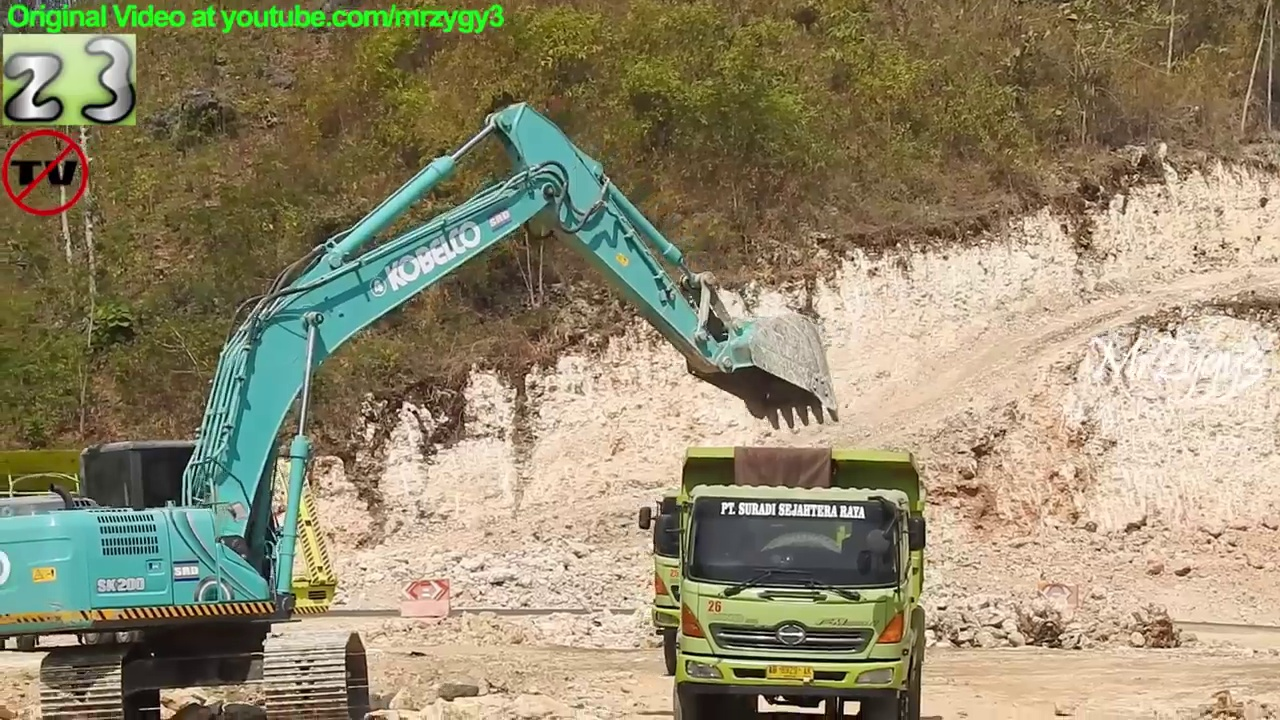excavator: (1, 102, 846, 720)
truck: (657, 443, 930, 720), (1, 444, 341, 655), (636, 488, 877, 689)
